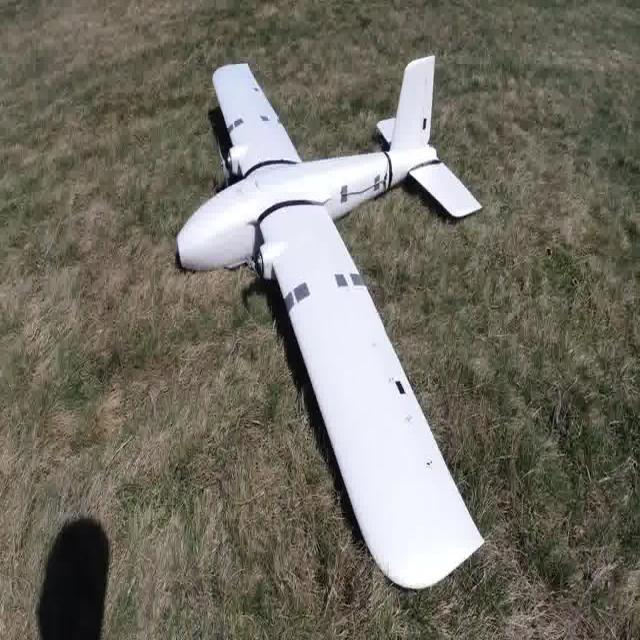iha: (173, 44, 499, 594)
